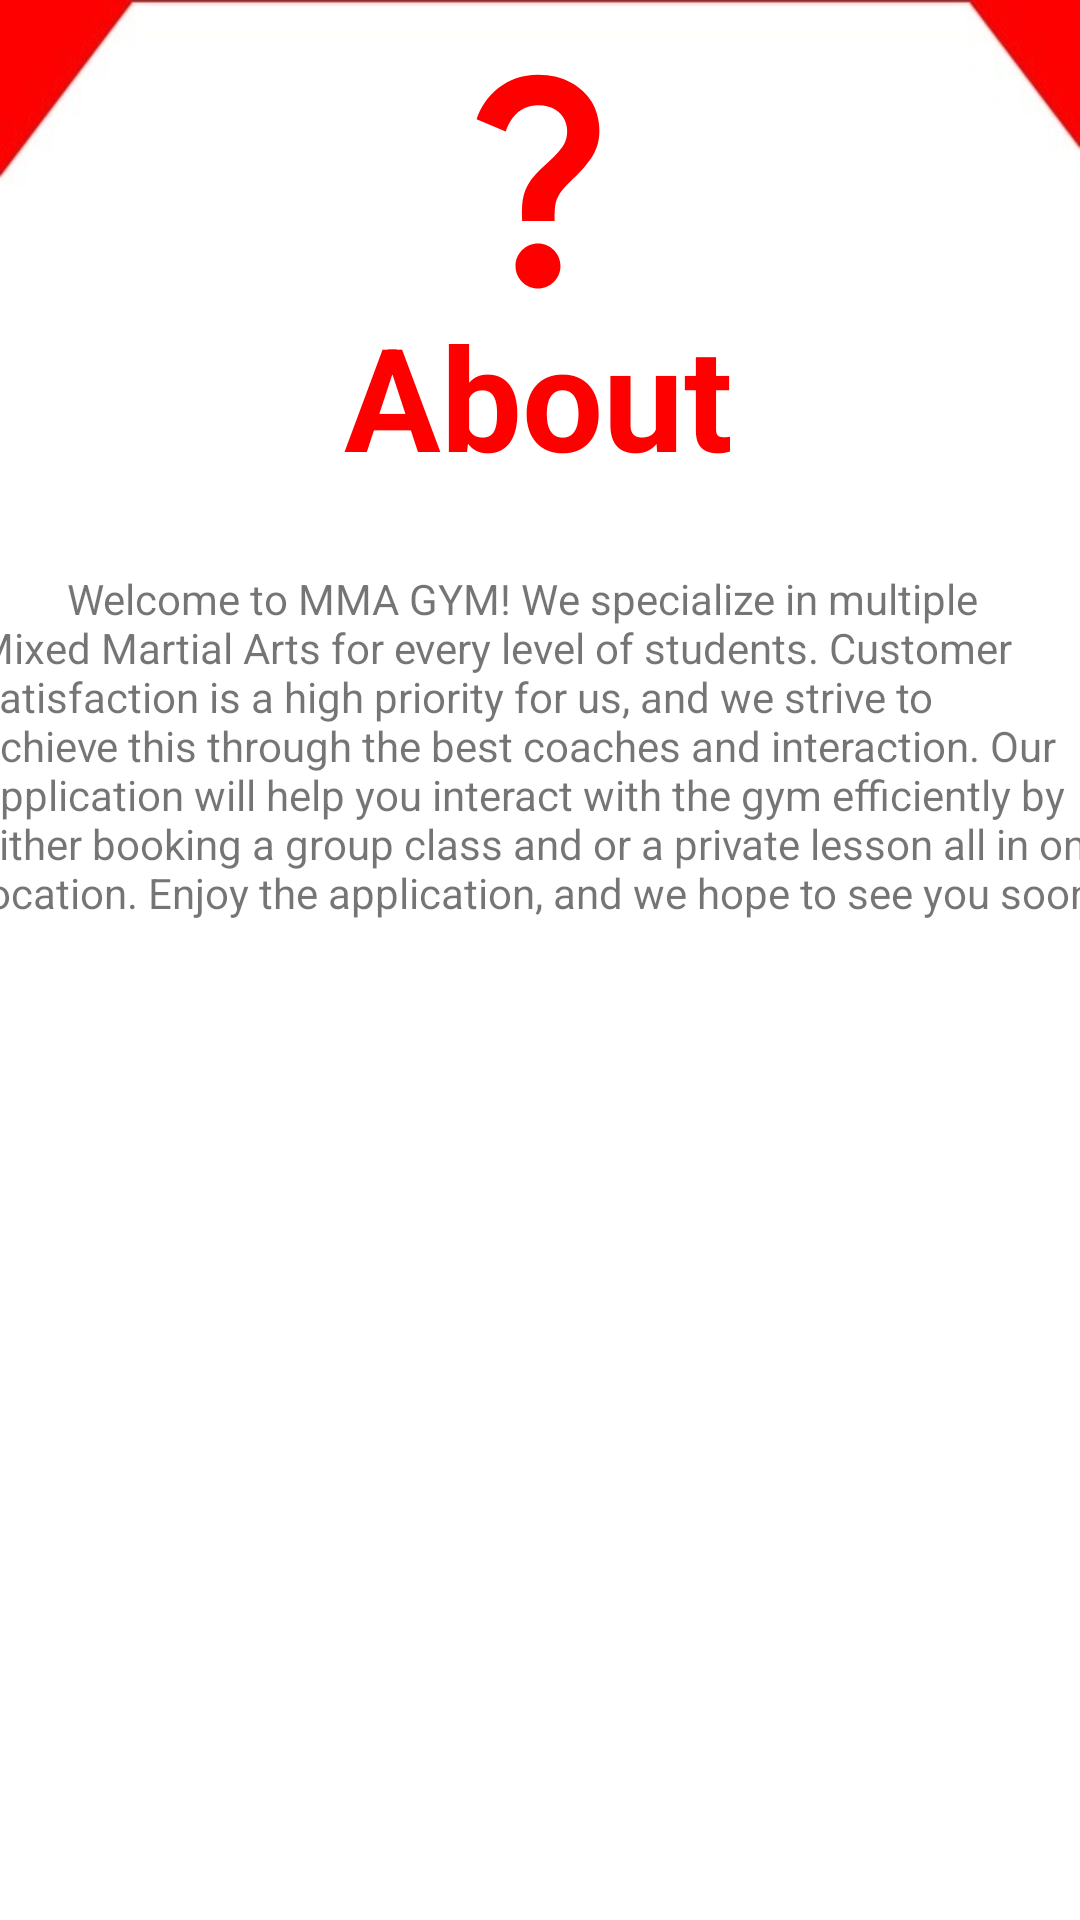

Named icons in this screenshot (1080x1920) and their bounding boxes, (x1, y1, x2, y2):
question: (476, 74, 600, 289)
